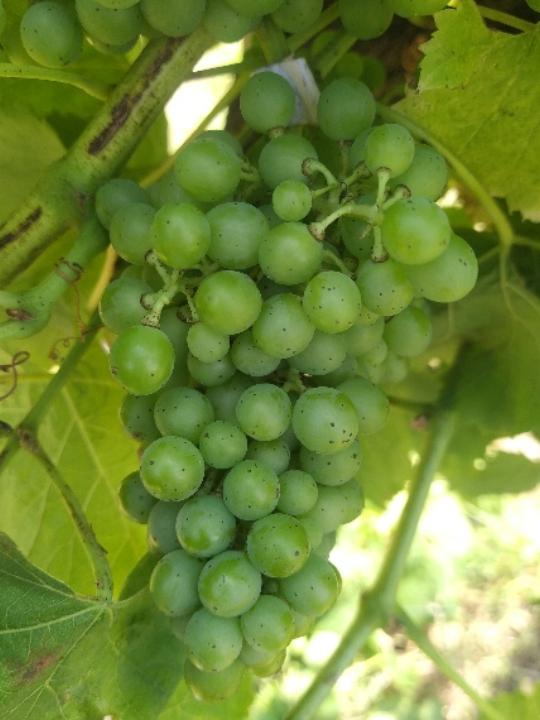grape: (97, 65, 483, 707)
